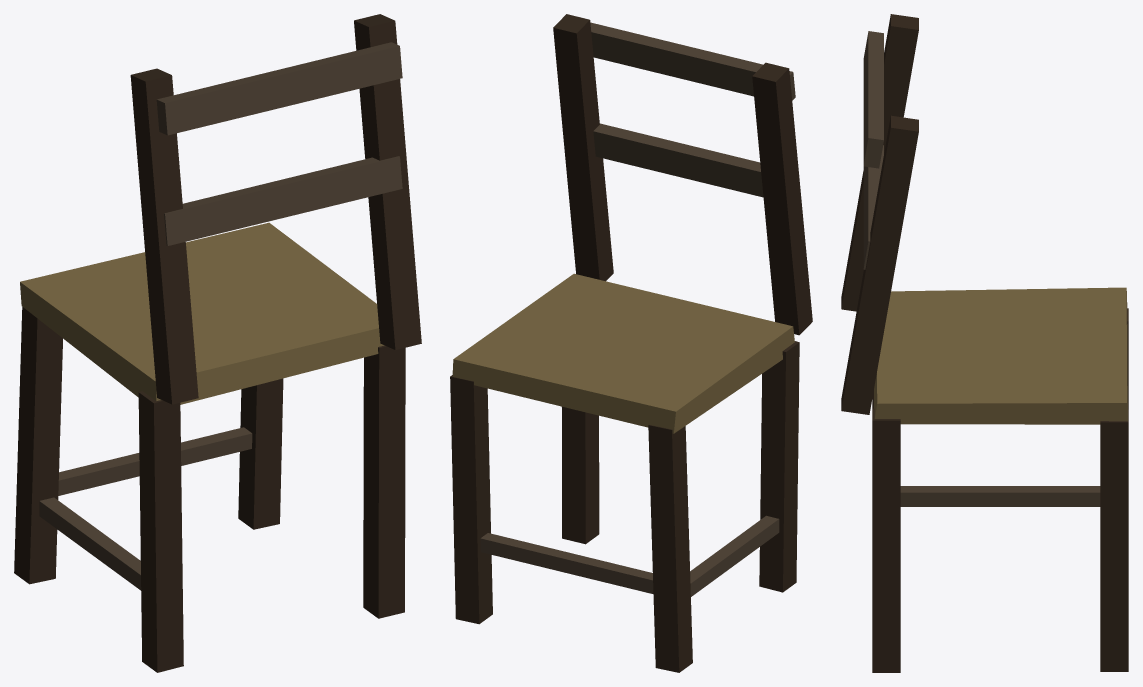
Rendered from chair_rush_b.glb.
3 renders of one model, left to right at view 1: azimuth 30°, elevation 25°; view 2: azimuth 150°, elevation 25°; view 3: azimuth 270°, elevation 25°, orthographic. The views are drawn at different scales.
Visible parts, largest first — view 1: chair_rush_b; view 2: chair_rush_b; view 3: chair_rush_b.
Part boxes in pixels (bbox=[...]): chair_rush_b: bbox=[14, 14, 421, 672]; chair_rush_b: bbox=[450, 14, 812, 672]; chair_rush_b: bbox=[841, 14, 1128, 672].
Size of what is drawn, in the model's own units: 0.4375 by 0.9511 by 0.4538.
